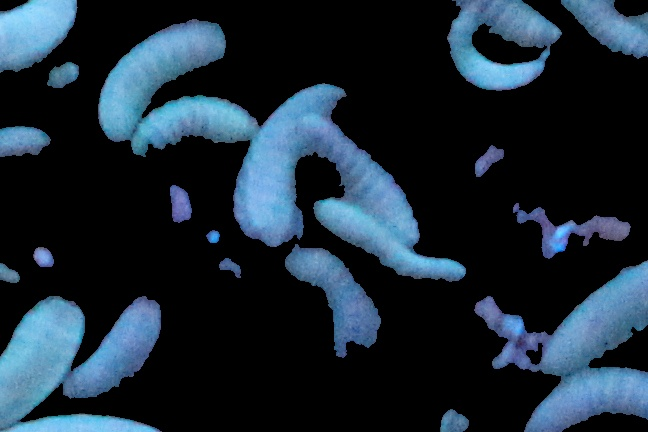larvae: (89, 1, 244, 153), (223, 79, 348, 249), (283, 240, 393, 376), (315, 187, 475, 276), (302, 120, 423, 234), (439, 1, 557, 103), (542, 251, 648, 360), (67, 285, 157, 413), (5, 296, 89, 424), (117, 97, 265, 153), (527, 365, 646, 432), (421, 1, 567, 49), (1, 1, 81, 82), (562, 1, 645, 60)
